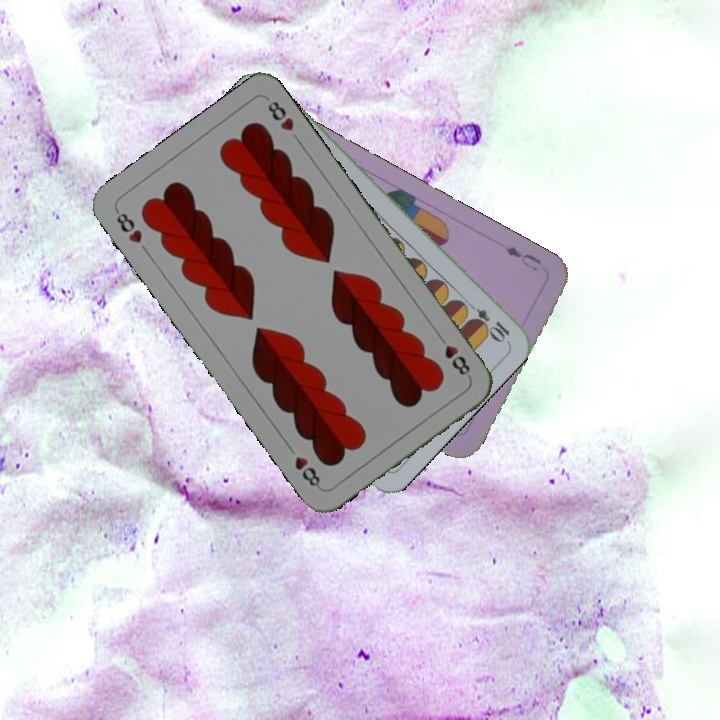E10: (461, 297, 512, 344)
EU: (500, 242, 544, 274)
H8: (433, 330, 473, 381), (111, 206, 145, 246)
